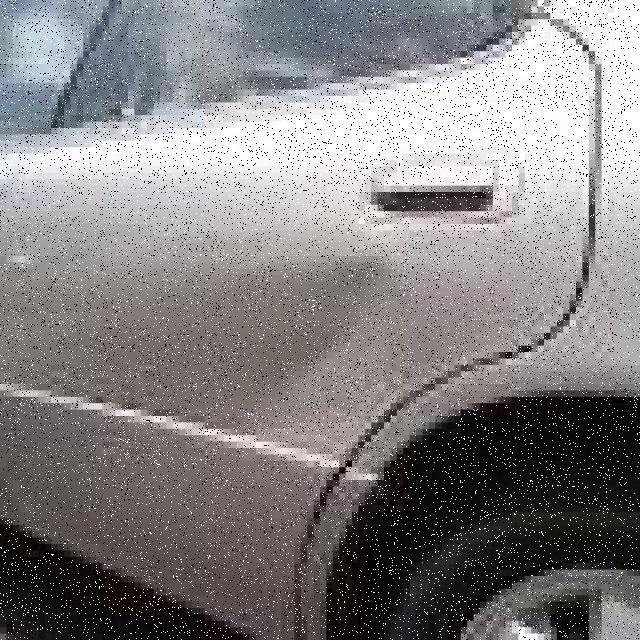doorouter-dent: (0, 122, 538, 467)
